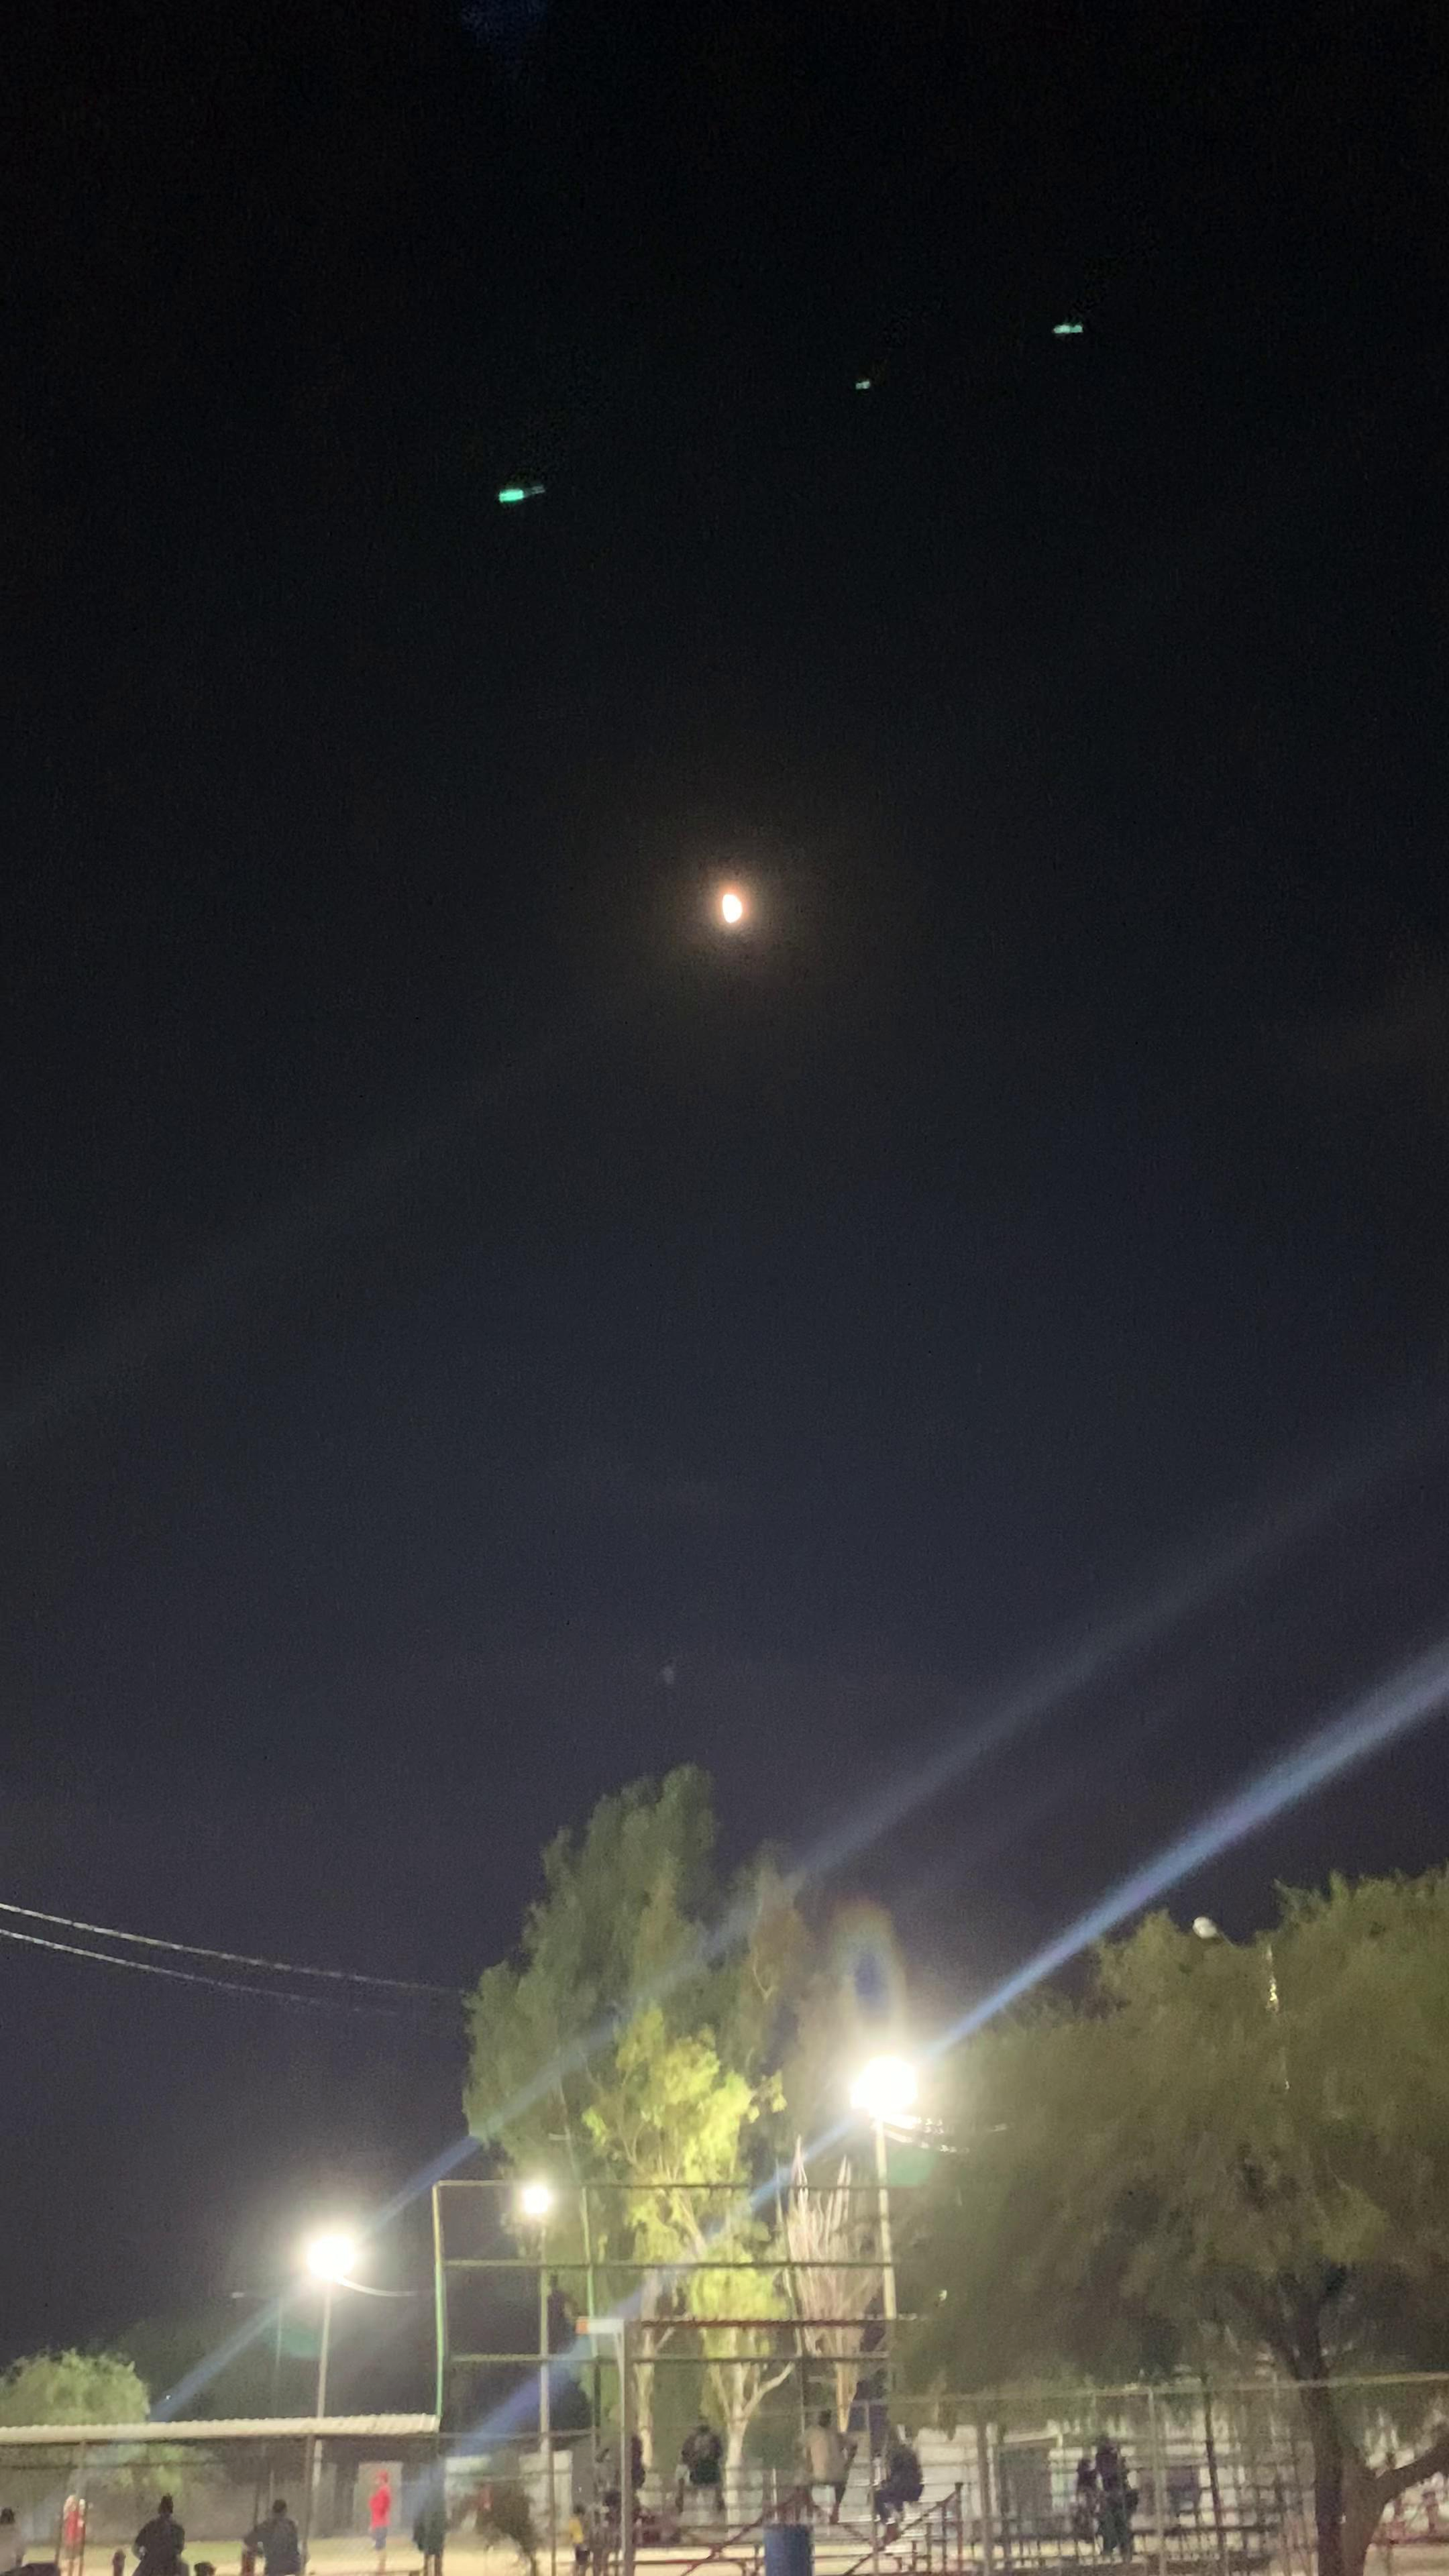moon: (658, 828, 819, 961)
